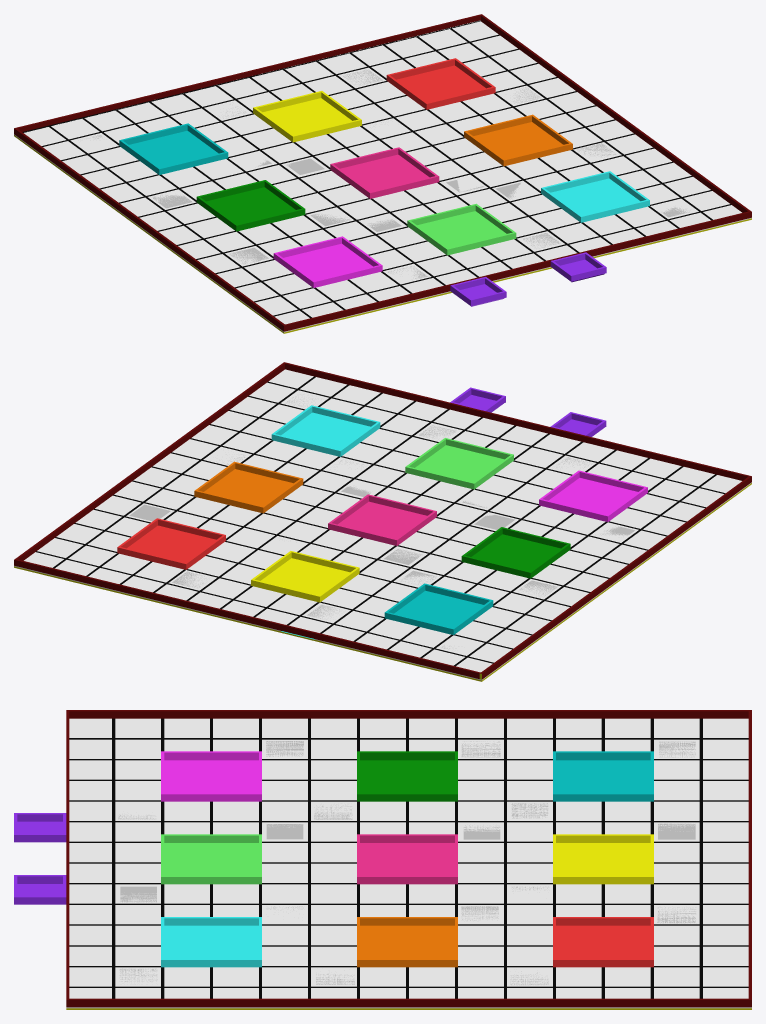
File: Stage2.obj
3 renders of one model, top to bottom at view 1: azimuth 30°, elevation 25°; view 2: azimuth 150°, elevation 25°; view 3: azimuth 270°, elevation 25°, orthographic. The views are drawn at different scales.
Visible parts, largest first — view 1: Mesh12 Component_3_1 Group1 arena1 Model, Mesh22 Group1 arena1 Model, Mesh1 Group2 Component_3_1 Group1 arena1 Model, Mesh3 Group4 Component_3_1 Group1 arena1 Model, Mesh4 Group5 Component_3_1 Group1 arena1 Model, Mesh2 Group3 Component_3_1 Group1 arena1 Model, Mesh7 Group8 Component_3_1 Group1 arena1 Model, Mesh8 Group9 Component_3_1 Group1 arena1 Model, Mesh9 Group10 Component_3_1 Group1 arena1 Model, Mesh5 Group6 Component_3_1 Group1 arena1 Model, Mesh6 Group7 Component_3_1 Group1 arena1 Model, Mesh23 Group1 arena1 Model (+2 smaller); view 2: Mesh12 Component_3_1 Group1 arena1 Model, Mesh22 Group1 arena1 Model, Mesh4 Group5 Component_3_1 Group1 arena1 Model, Mesh5 Group6 Component_3_1 Group1 arena1 Model, Mesh6 Group7 Component_3_1 Group1 arena1 Model, Mesh3 Group4 Component_3_1 Group1 arena1 Model, Mesh1 Group2 Component_3_1 Group1 arena1 Model, Mesh2 Group3 Component_3_1 Group1 arena1 Model, Mesh7 Group8 Component_3_1 Group1 arena1 Model, Mesh8 Group9 Component_3_1 Group1 arena1 Model, Mesh9 Group10 Component_3_1 Group1 arena1 Model, Mesh23 Group1 arena1 Model (+2 smaller); view 3: Mesh12 Component_3_1 Group1 arena1 Model, Mesh22 Group1 arena1 Model, Mesh1 Group2 Component_3_1 Group1 arena1 Model, Mesh2 Group3 Component_3_1 Group1 arena1 Model, Mesh3 Group4 Component_3_1 Group1 arena1 Model, Mesh4 Group5 Component_3_1 Group1 arena1 Model, Mesh5 Group6 Component_3_1 Group1 arena1 Model, Mesh6 Group7 Component_3_1 Group1 arena1 Model, Mesh7 Group8 Component_3_1 Group1 arena1 Model, Mesh8 Group9 Component_3_1 Group1 arena1 Model, Mesh9 Group10 Component_3_1 Group1 arena1 Model, Mesh11 Component_2_2 Component_3_1 Group1 arena1 Model (+6 smaller).
Part boxes in pixels (<box>): Mesh12 Component_3_1 Group1 arena1 Model: <box>14,20,751,332</box>; Mesh22 Group1 arena1 Model: <box>14,14,751,331</box>; Mesh1 Group2 Component_3_1 Group1 arena1 Model: <box>273,236,382,287</box>; Mesh3 Group4 Component_3_1 Group1 arena1 Model: <box>119,123,228,174</box>; Mesh4 Group5 Component_3_1 Group1 arena1 Model: <box>196,180,305,231</box>; Mesh2 Group3 Component_3_1 Group1 arena1 Model: <box>386,58,495,109</box>; Mesh7 Group8 Component_3_1 Group1 arena1 Model: <box>407,203,516,255</box>; Mesh8 Group9 Component_3_1 Group1 arena1 Model: <box>330,147,439,198</box>; Mesh9 Group10 Component_3_1 Group1 arena1 Model: <box>253,91,361,142</box>; Mesh5 Group6 Component_3_1 Group1 arena1 Model: <box>464,114,572,166</box>; Mesh6 Group7 Component_3_1 Group1 arena1 Model: <box>541,171,649,222</box>; Mesh23 Group1 arena1 Model: <box>14,135,751,333</box>; Mesh12 Component_3_1 Group1 arena1 Model: <box>14,369,751,680</box>; Mesh22 Group1 arena1 Model: <box>14,362,751,679</box>; Mesh4 Group5 Component_3_1 Group1 arena1 Model: <box>461,527,570,578</box>; Mesh5 Group6 Component_3_1 Group1 arena1 Model: <box>194,461,303,513</box>; Mesh6 Group7 Component_3_1 Group1 arena1 Model: <box>271,405,380,456</box>; Mesh3 Group4 Component_3_1 Group1 arena1 Model: <box>384,583,493,634</box>; Mesh1 Group2 Component_3_1 Group1 arena1 Model: <box>539,470,647,521</box>; Mesh2 Group3 Component_3_1 Group1 arena1 Model: <box>117,518,225,569</box>; Mesh7 Group8 Component_3_1 Group1 arena1 Model: <box>405,438,513,489</box>; Mesh8 Group9 Component_3_1 Group1 arena1 Model: <box>328,494,436,545</box>; Mesh9 Group10 Component_3_1 Group1 arena1 Model: <box>251,551,359,602</box>; Mesh23 Group1 arena1 Model: <box>14,483,751,681</box>; Mesh12 Component_3_1 Group1 arena1 Model: <box>66,718,751,1008</box>; Mesh22 Group1 arena1 Model: <box>66,710,751,1007</box>; Mesh1 Group2 Component_3_1 Group1 arena1 Model: <box>161,751,261,801</box>; Mesh2 Group3 Component_3_1 Group1 arena1 Model: <box>553,917,653,967</box>; Mesh3 Group4 Component_3_1 Group1 arena1 Model: <box>553,751,653,801</box>; Mesh4 Group5 Component_3_1 Group1 arena1 Model: <box>357,751,457,801</box>; Mesh5 Group6 Component_3_1 Group1 arena1 Model: <box>357,917,457,967</box>; Mesh6 Group7 Component_3_1 Group1 arena1 Model: <box>161,917,261,967</box>; Mesh7 Group8 Component_3_1 Group1 arena1 Model: <box>161,834,261,884</box>; Mesh8 Group9 Component_3_1 Group1 arena1 Model: <box>357,834,457,884</box>; Mesh9 Group10 Component_3_1 Group1 arena1 Model: <box>553,834,653,884</box>; Mesh11 Component_2_2 Component_3_1 Group1 arena1 Model: <box>14,875,66,904</box>.
Size of the model in its own units: 84 by 1.36 by 90.39.
